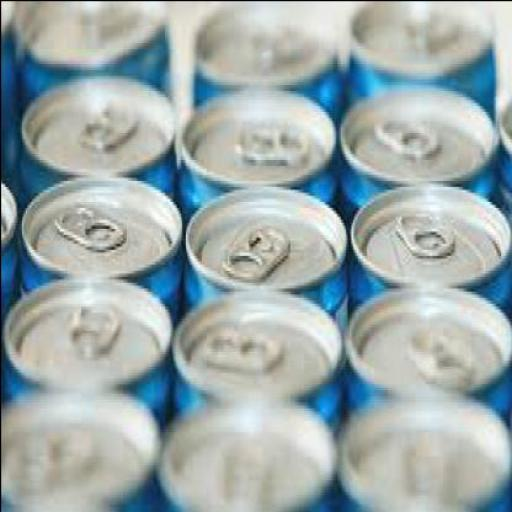metal: (182, 182, 352, 318), (340, 77, 503, 213), (336, 385, 511, 510), (168, 288, 344, 410), (158, 392, 340, 509), (1, 273, 171, 398), (19, 170, 182, 300), (17, 74, 177, 204), (348, 284, 511, 409), (350, 180, 510, 306), (1, 386, 159, 509), (179, 84, 337, 206), (343, 1, 496, 117), (19, 2, 174, 111), (194, 6, 344, 105), (2, 173, 18, 309), (497, 101, 511, 205)
